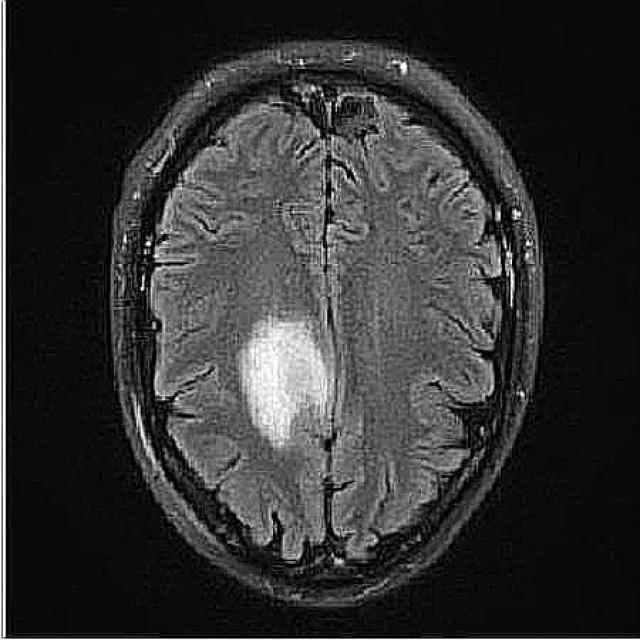Tumor-Cell: (220, 312, 343, 447)
